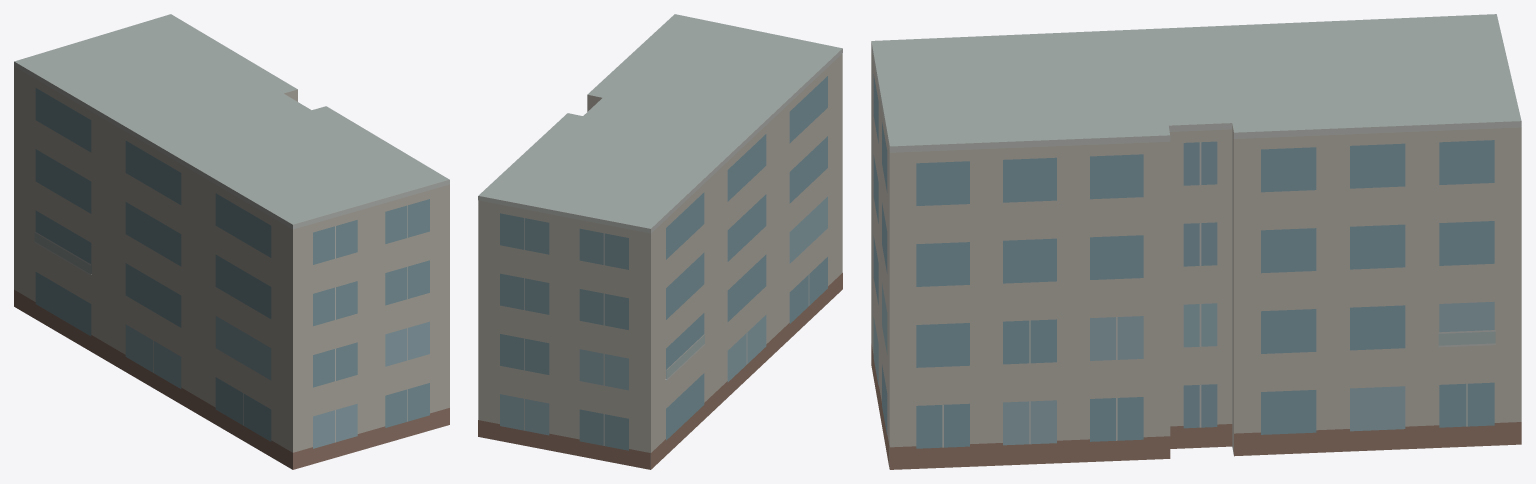
File: survey-upis-32670643.glb
The picture shows the model from 3 angles, left to right: view 1: azimuth 30°, elevation 25°; view 2: azimuth 150°, elevation 25°; view 3: azimuth 270°, elevation 25°; orthographic projection. The views are drawn at different scales.
Visible parts, largest first — view 1: survey-upis-32670643.tmp; view 2: survey-upis-32670643.tmp; view 3: survey-upis-32670643.tmp.
Part boxes in pixels (x1,y1,x2,y2): survey-upis-32670643.tmp: (14,14,449,469); survey-upis-32670643.tmp: (478,14,842,469); survey-upis-32670643.tmp: (871,14,1521,469).
Bounding box in the file's own units: 10.99 × 12.5 × 22.79.
